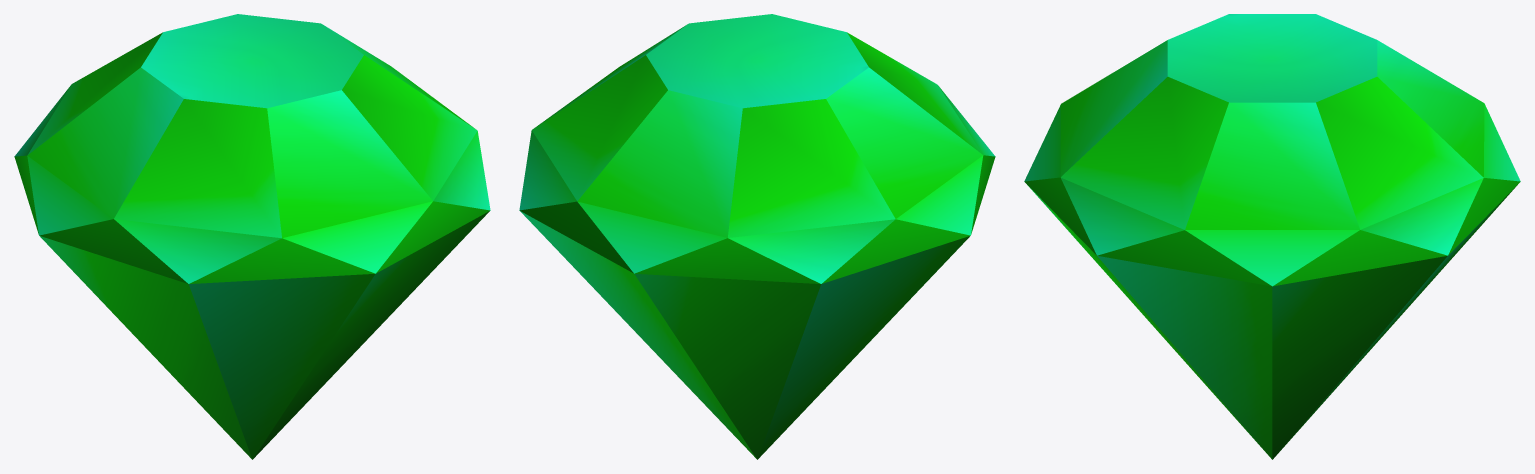
File: gemGreen.fbx
The picture shows the model from 3 angles, left to right: view 1: azimuth 30°, elevation 25°; view 2: azimuth 150°, elevation 25°; view 3: azimuth 270°, elevation 25°; orthographic projection.
Visible parts, largest first — view 1: gemGreen; view 2: gemGreen; view 3: gemGreen.
Part boxes in pixels (x1,y1,x2,y2): gemGreen: (14, 14, 490, 459); gemGreen: (519, 14, 995, 459); gemGreen: (1024, 14, 1520, 459).
Size of the model in its own units: 6.31 by 5.64 by 6.31.
